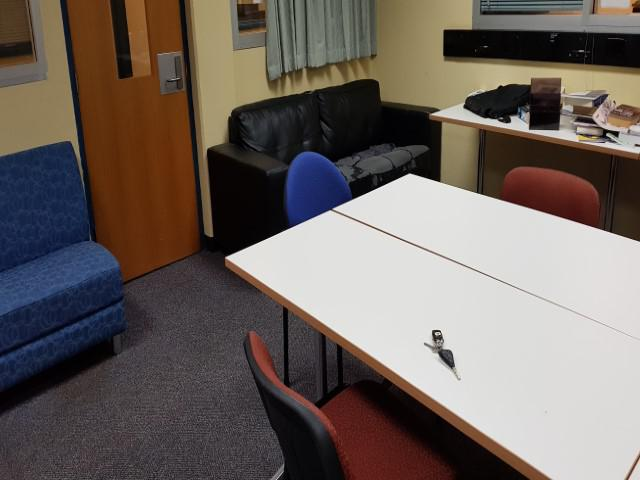key: (440, 350, 460, 380)
